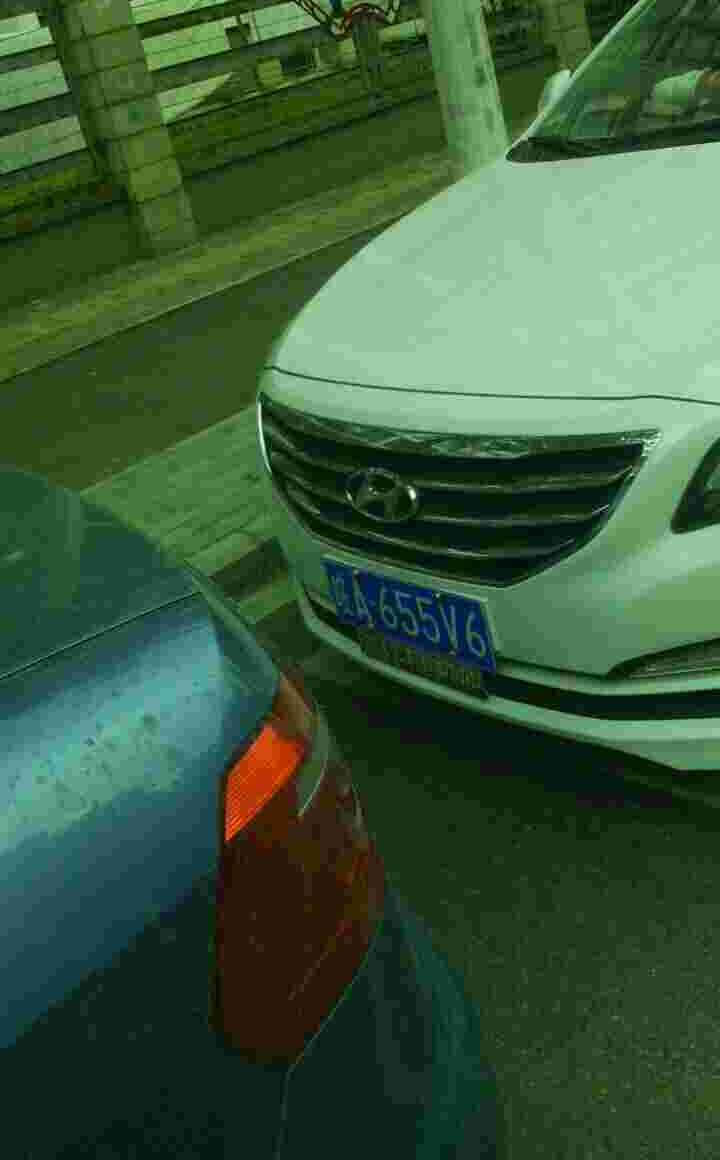plate: (316, 551, 500, 678)
